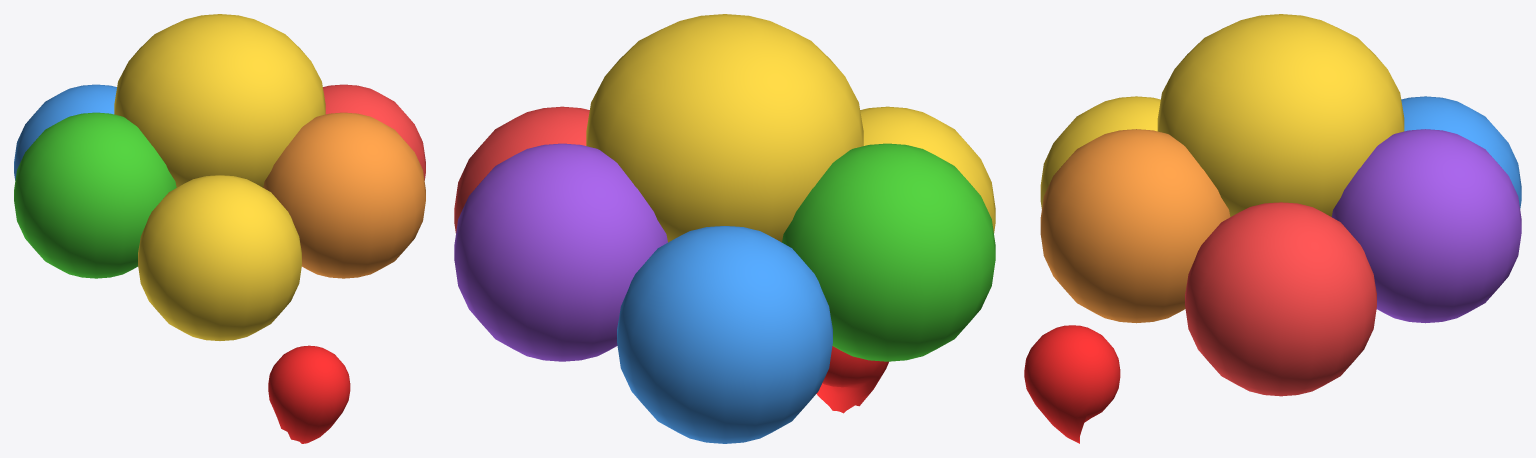
Rendered from head_fun_1.glb.
3 views of the same model, side by side, from view 1: azimuth 30°, elevation 25°; view 2: azimuth 150°, elevation 25°; view 3: azimuth 270°, elevation 25° (orthographic). The views are drawn at different scales.
Size of the model in its own units: 0.817 by 0.707 by 0.7683.
